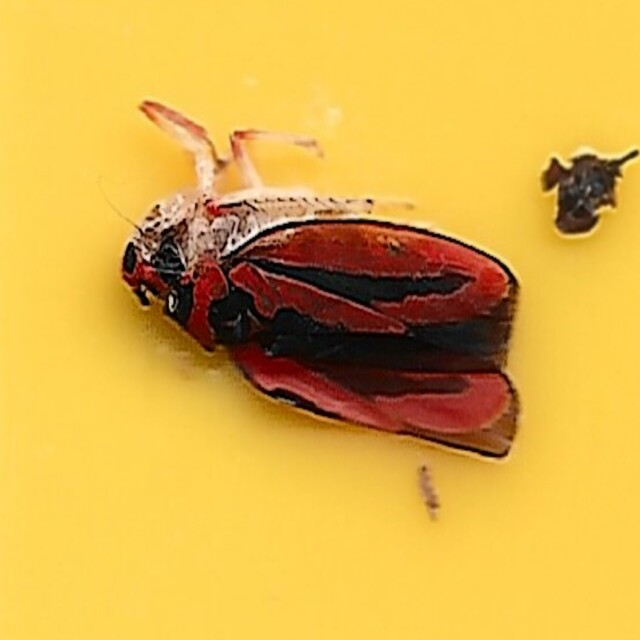Hemiptera: (115, 171, 525, 469)
